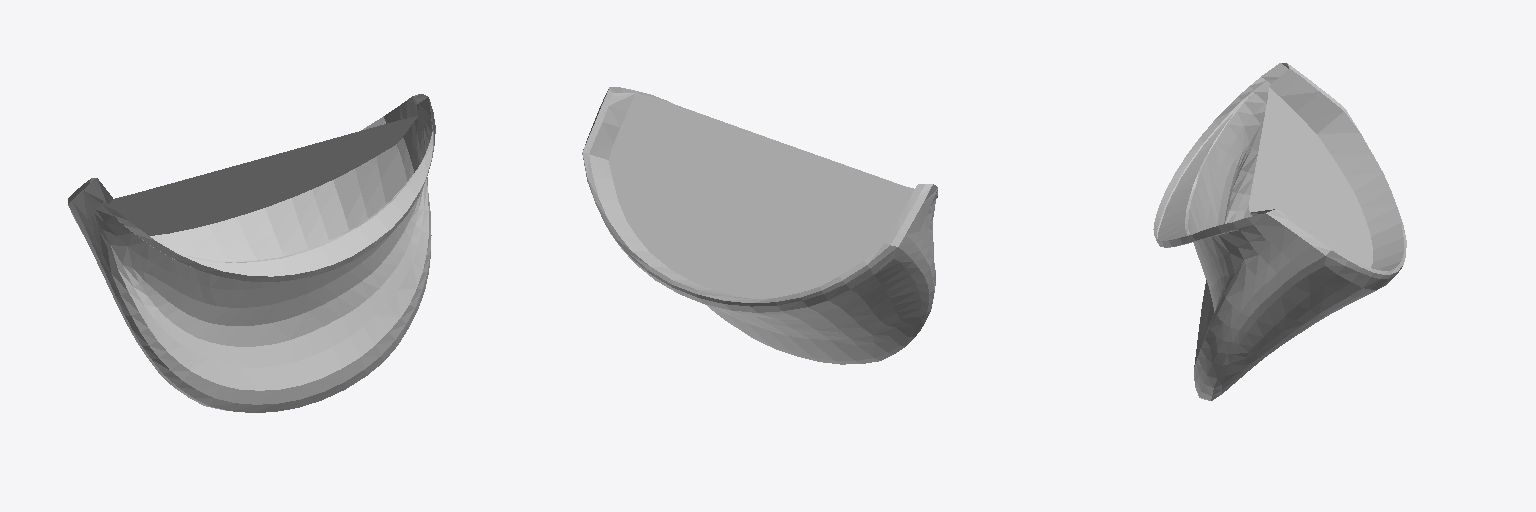
The model's file is R_button_R2.obj.
3 renders of one model, left to right at view 1: azimuth 30°, elevation 25°; view 2: azimuth 150°, elevation 25°; view 3: azimuth 270°, elevation 25°, orthographic.
Visible parts, largest first — view 1: R_button_R2 Ctrl_R; view 2: R_button_R2 Ctrl_R; view 3: R_button_R2 Ctrl_R.
Part boxes in pixels (x1,y1,x2,y2): R_button_R2 Ctrl_R: (68,94,435,412); R_button_R2 Ctrl_R: (582,87,937,364); R_button_R2 Ctrl_R: (1153,63,1406,400).
Bounding box in the file's own units: 0.0294 × 0.0213 × 0.0195.